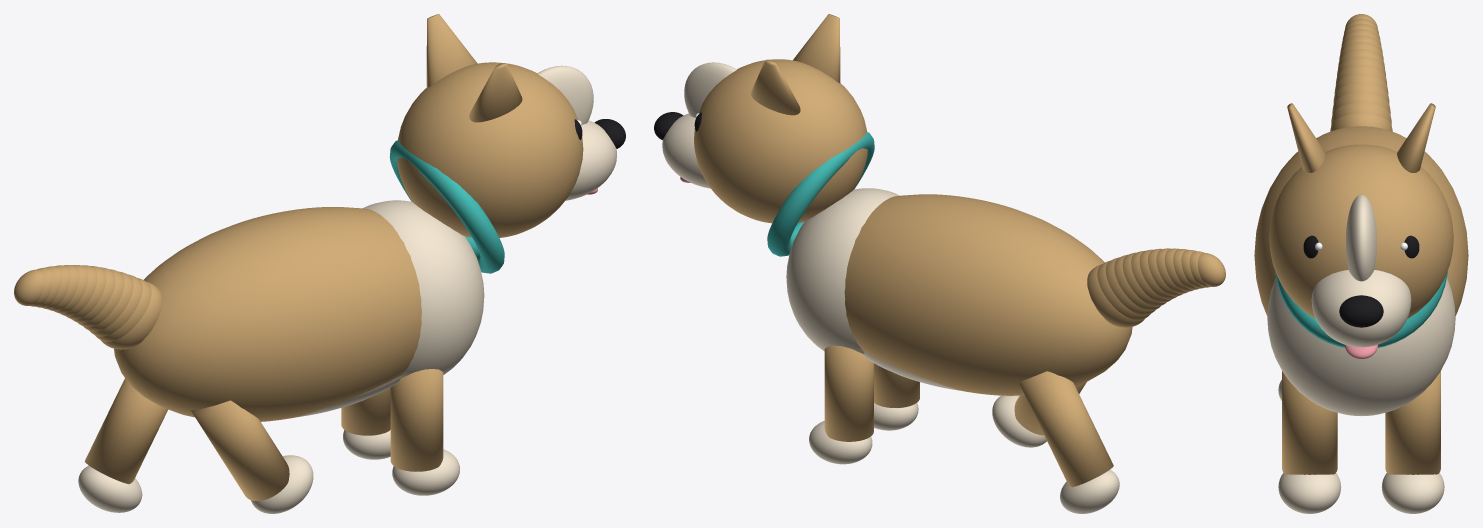
The model's file is chihuahua.glb.
3 renders of one model, left to right at view 1: azimuth 30°, elevation 25°; view 2: azimuth 150°, elevation 25°; view 3: azimuth 270°, elevation 25°, orthographic. The views are drawn at different scales.
Visible parts, largest first — view 1: Body, Head, Chest, Leg3, Leg1, Leg2, Collar, Muzzle, Ear1, Paw2, Ear-1, Leg0 (+9 smaller); view 2: Body, Head, Chest, Leg2, Leg0, Collar, Muzzle, Ear-1, Paw2, Ear1, Leg1, Paw0 (+8 smaller); view 3: Head, Chest, Body, Muzzle, Leg0, Leg1, Blaze, Paw0, Paw1, Collar, Ear1, Ear-1 (+14 smaller).
Part boxes in pixels (x1,y1,x2,y2): Body: (114, 207, 421, 421); Head: (397, 62, 583, 237); Chest: (363, 200, 484, 378); Leg3: (191, 400, 289, 500); Leg1: (390, 369, 443, 471); Leg2: (84, 378, 168, 484); Collar: (389, 140, 504, 273); Muzzle: (565, 120, 616, 200); Ear1: (426, 14, 477, 87); Paw2: (78, 465, 142, 512); Ear-1: (469, 63, 522, 122); Leg0: (341, 387, 390, 435); Body: (844, 194, 1132, 395); Head: (694, 59, 867, 223); Chest: (786, 188, 899, 354); Leg2: (1019, 371, 1113, 487); Leg0: (824, 345, 873, 441); Collar: (767, 132, 874, 256); Muzzle: (662, 113, 710, 188); Ear-1: (793, 14, 840, 83); Paw2: (1060, 470, 1119, 513); Ear1: (750, 59, 800, 115); Leg1: (874, 363, 919, 407); Paw0: (809, 421, 872, 464); Head: (1269, 144, 1453, 318); Chest: (1267, 278, 1455, 416); Body: (1254, 126, 1468, 315); Muzzle: (1311, 270, 1411, 347); Leg0: (1385, 371, 1440, 474); Leg1: (1282, 371, 1337, 474); Blaze: (1346, 194, 1376, 281); Paw0: (1381, 473, 1444, 513); Paw1: (1278, 473, 1341, 513); Collar: (1275, 271, 1447, 347); Ear1: (1397, 103, 1435, 172); Ear-1: (1287, 103, 1325, 172).
Bounding box in the file's own units: 1.99 × 1.31 × 0.58.
